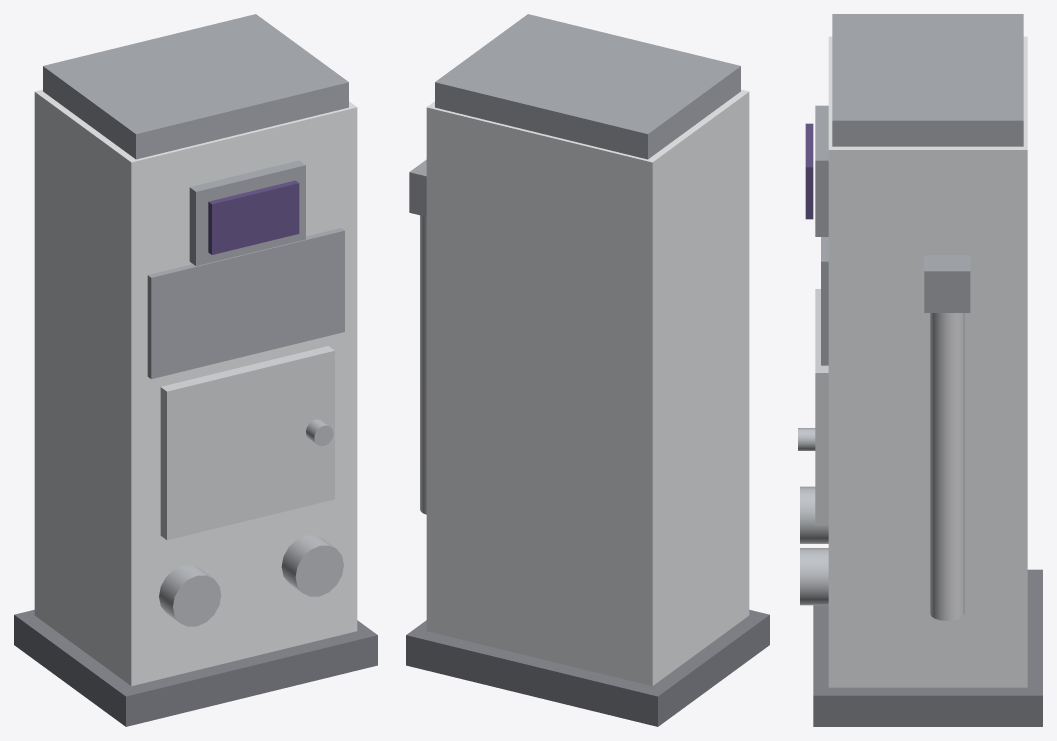
Rendered from service-device.glb.
The picture shows the model from 3 angles, left to right: view 1: azimuth 30°, elevation 25°; view 2: azimuth 150°, elevation 25°; view 3: azimuth 270°, elevation 25°; orthographic projection. The views are drawn at different scales.
Bounding box in the file's own units: 0.88 × 1.72 × 0.64.
